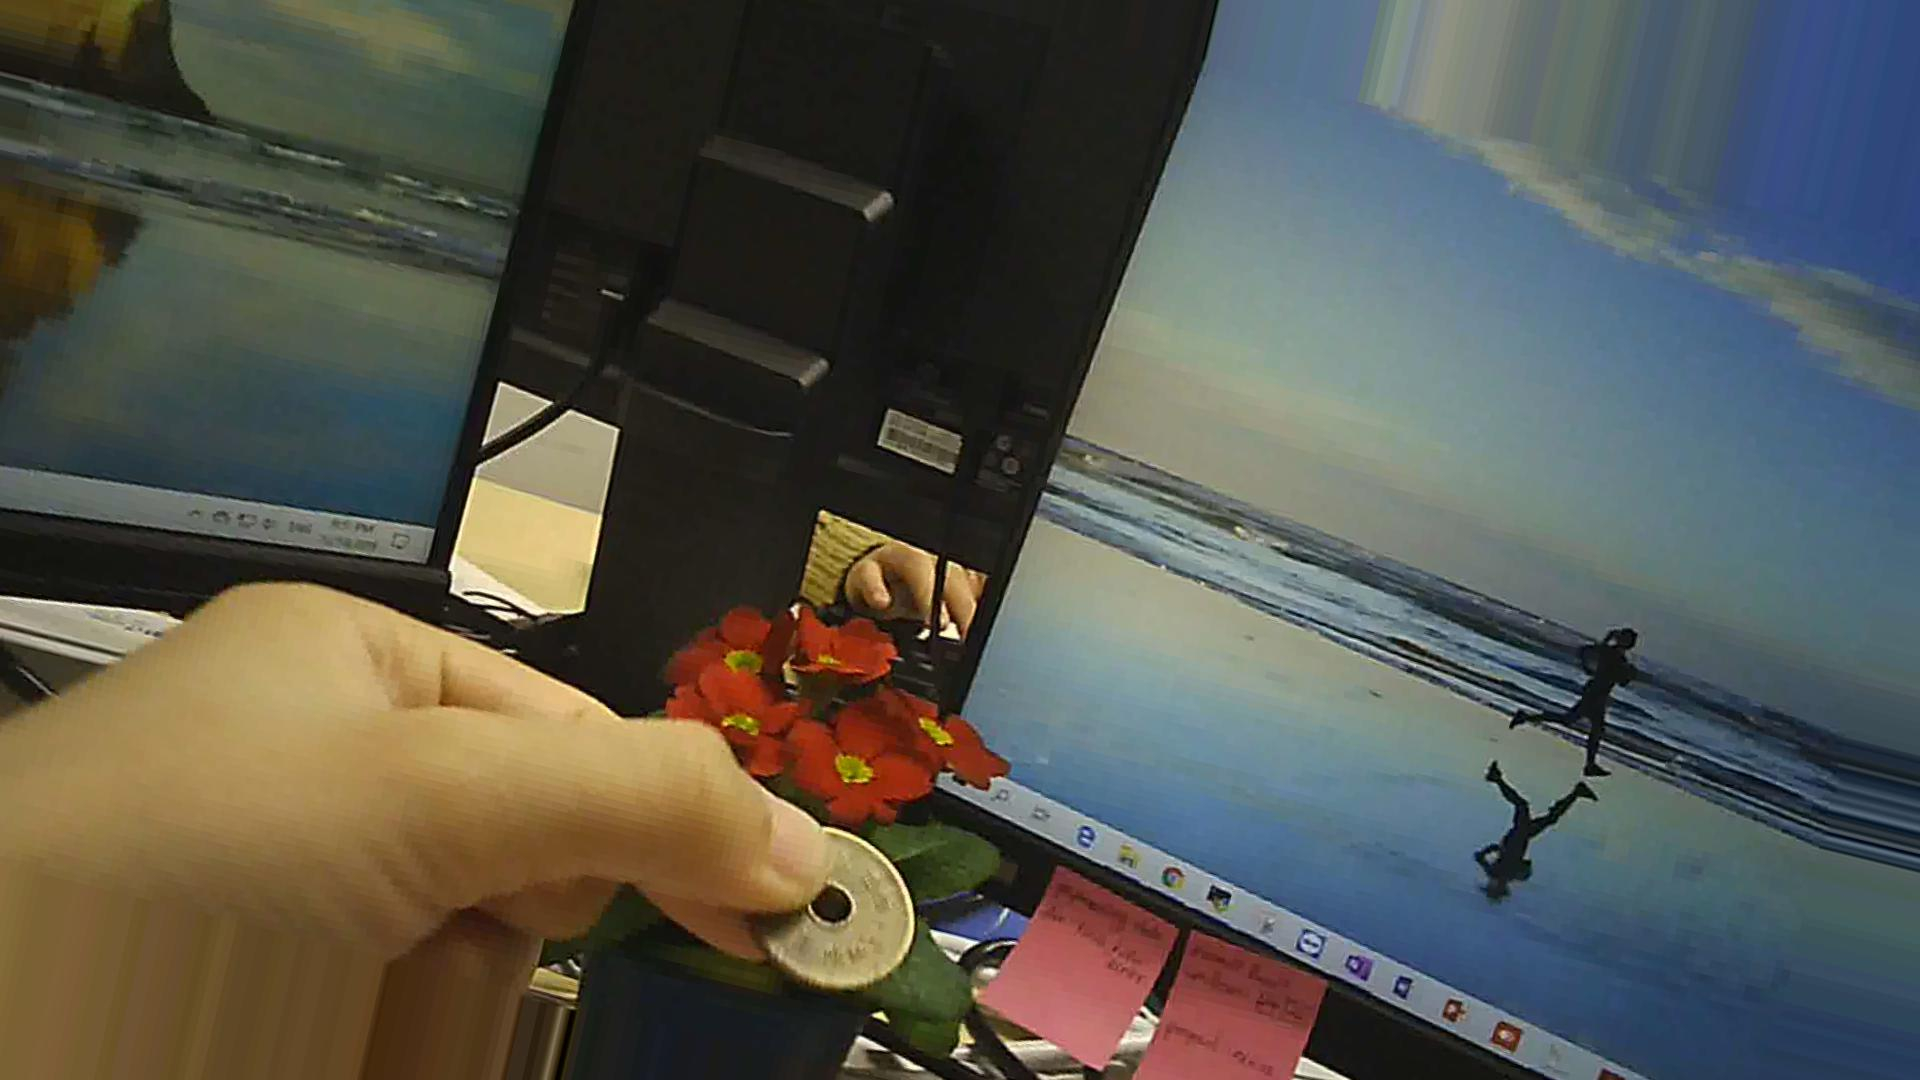5 Yen: (735, 793, 924, 1001)
